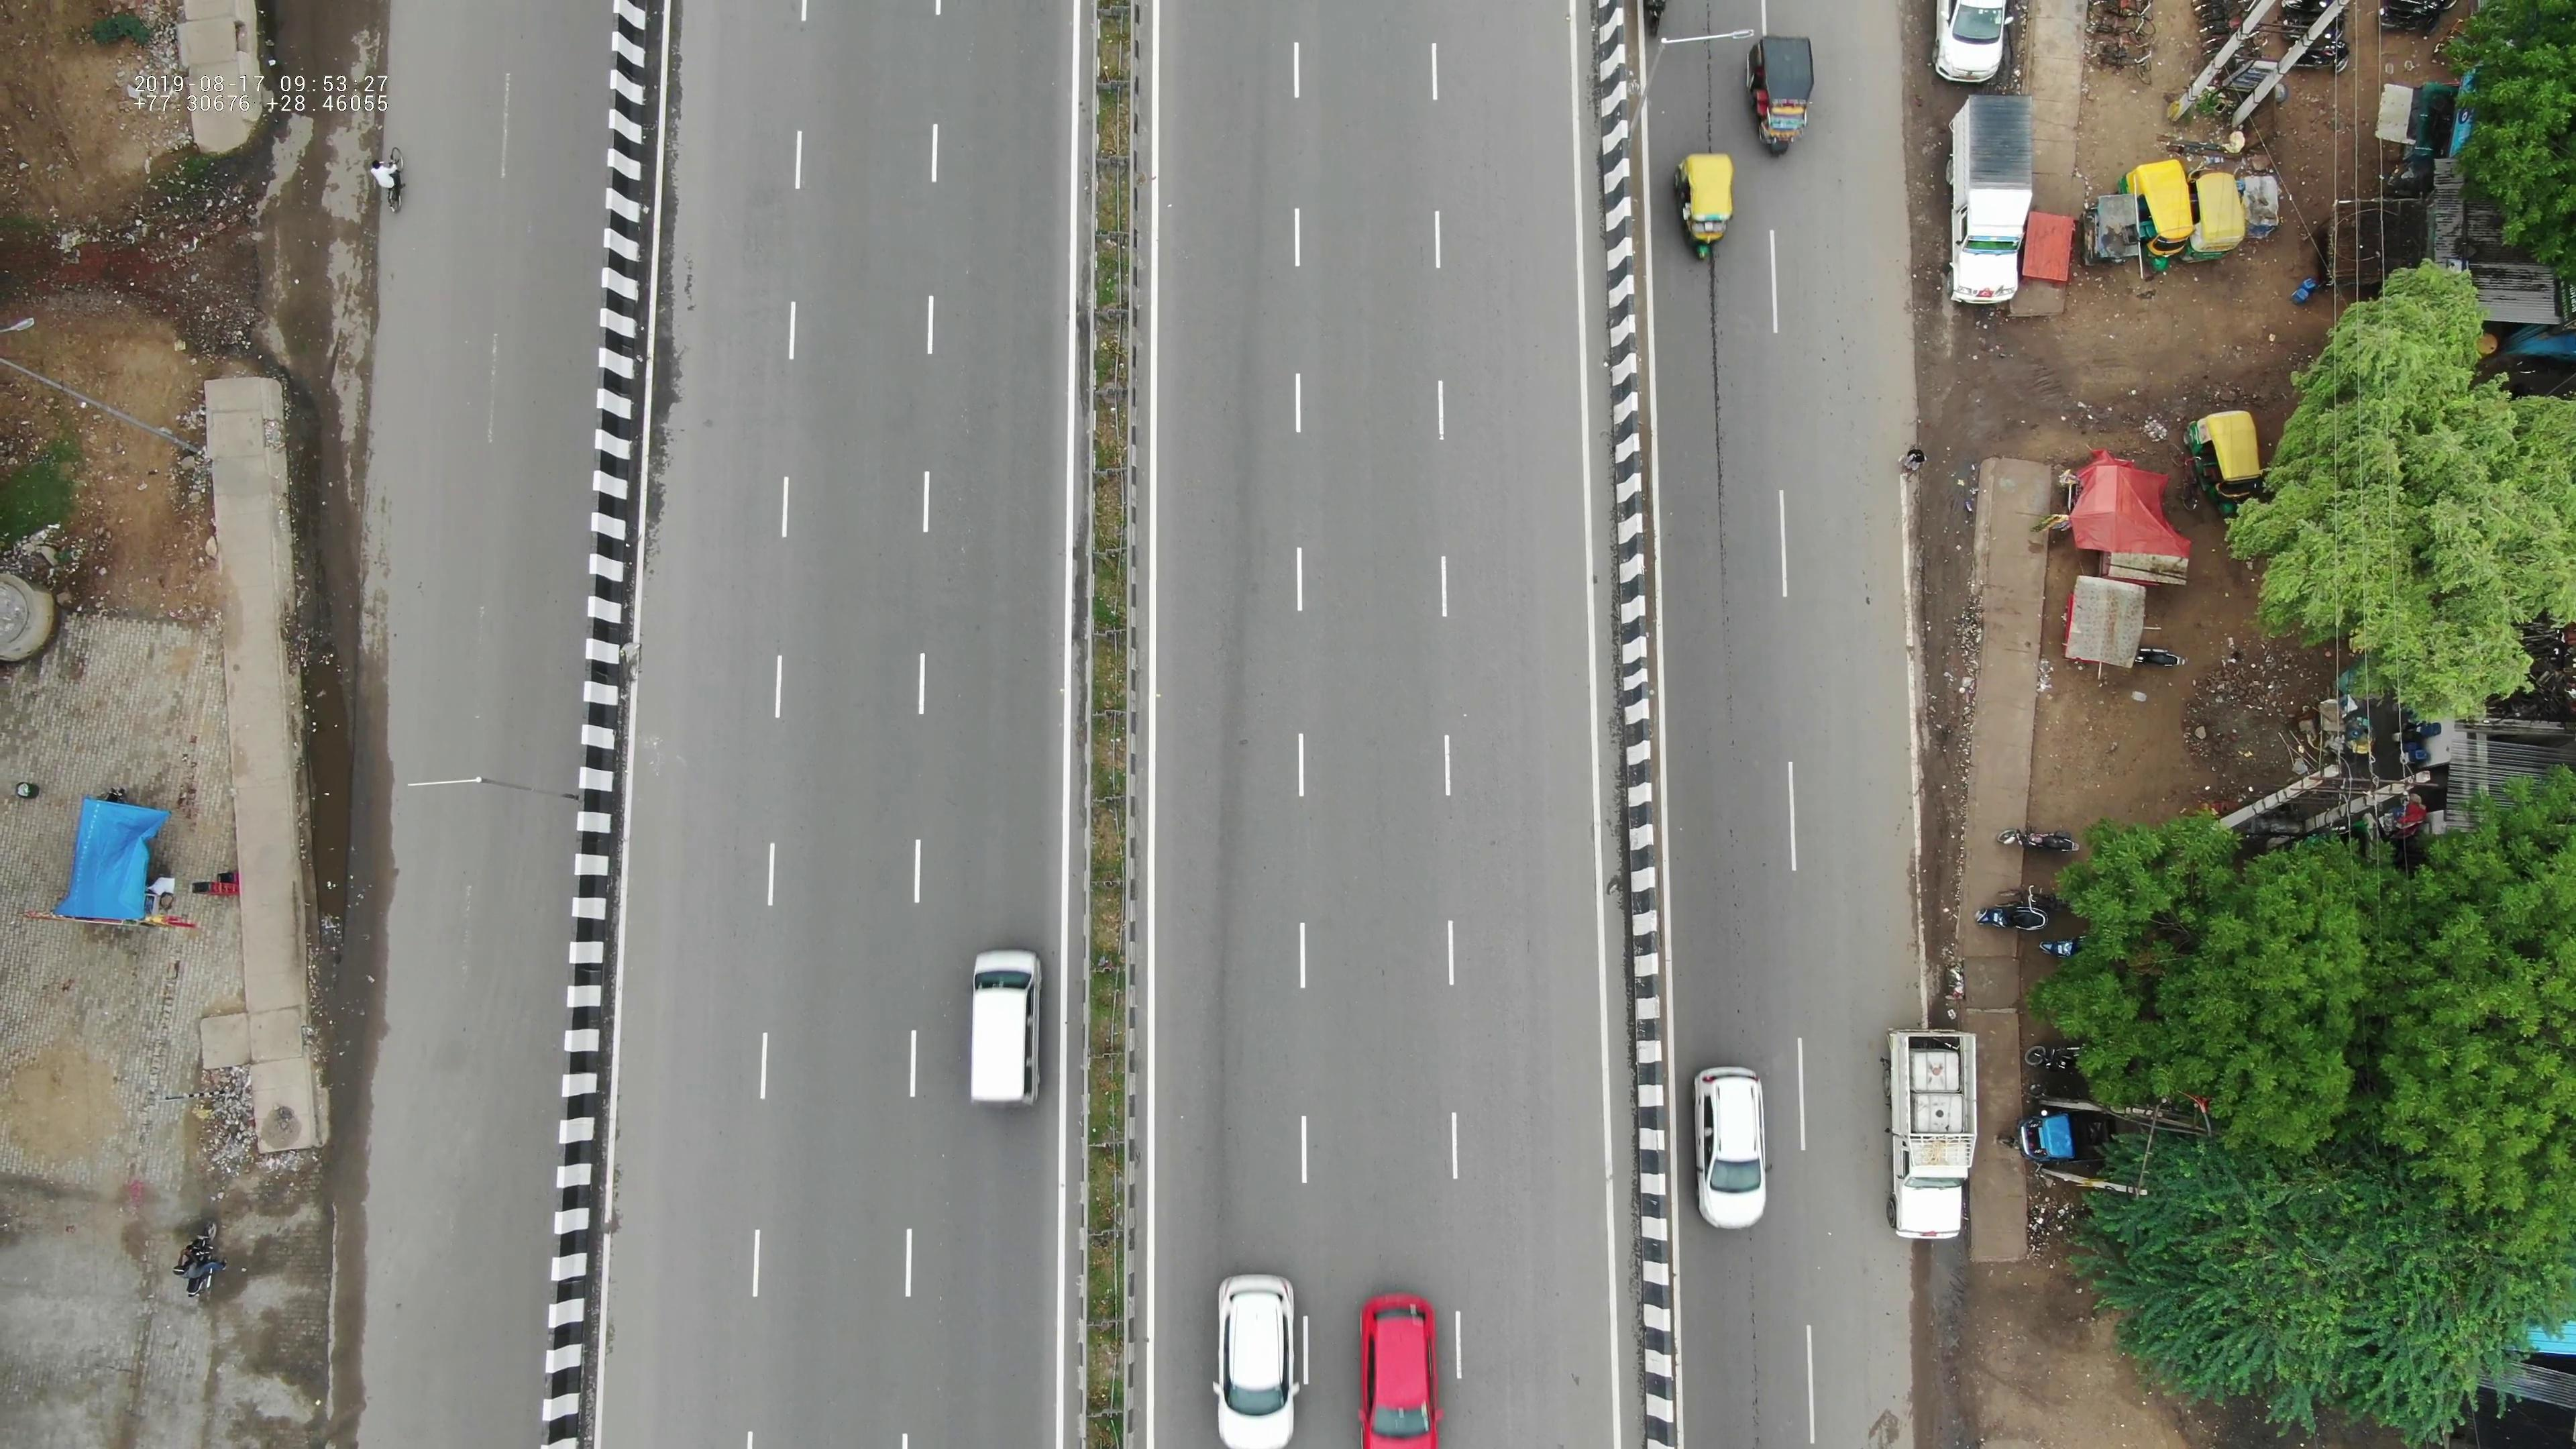Muddy_road: (1897, 724, 1985, 927), (1895, 513, 1987, 706)
Ravelling: (1681, 264, 1743, 598), (1675, 7, 1720, 149)
Waterlogging: (290, 649, 382, 961)
